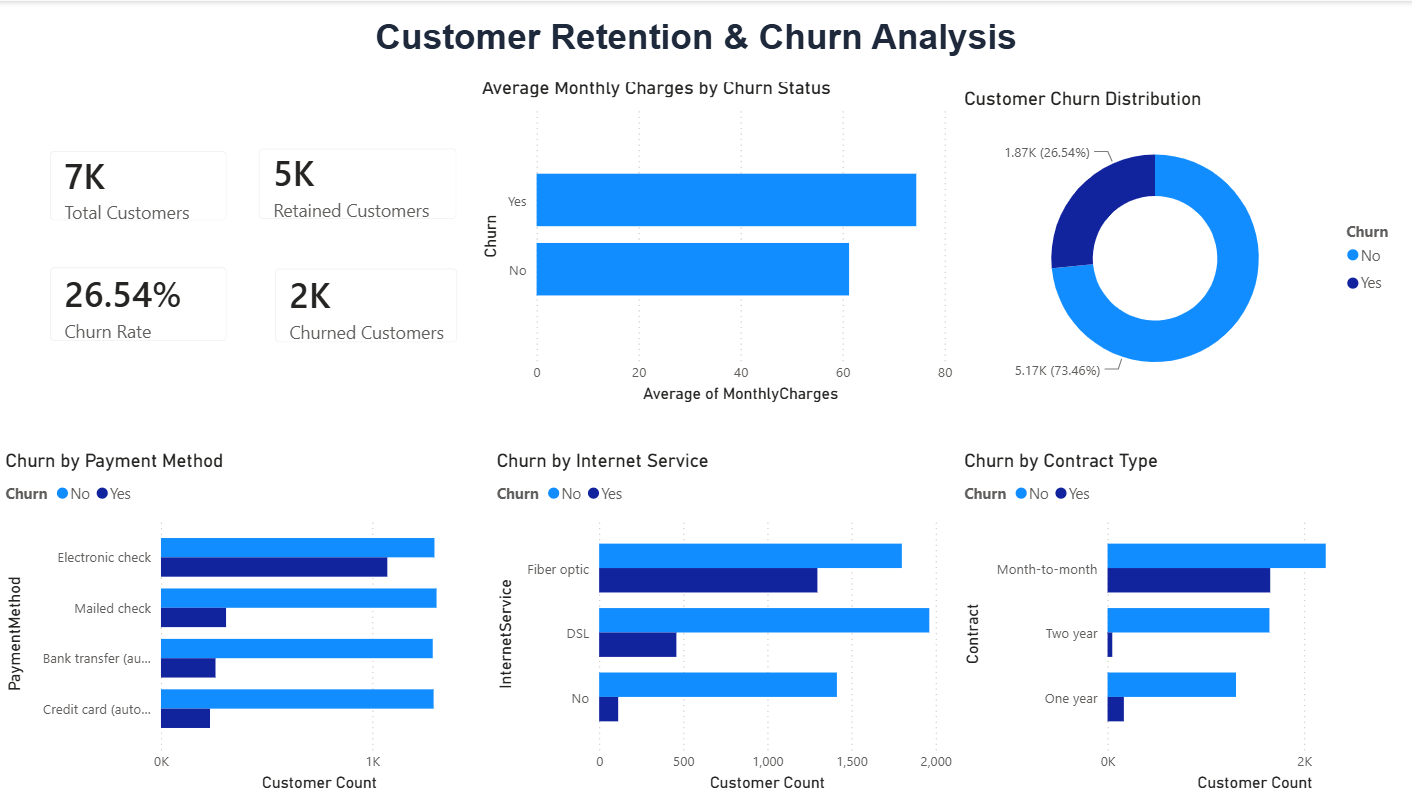

The page's visual inventory and layout, read from the dashboard file:
{"tool":"powerbi","page":{"name":"Page 1","canvas":[1280,720],"ordinal":0},"visuals":[{"type":"cardVisual","fields":{"Data":["WA_Fn-UseC_-Telco-Customer-Churn.Total Customers"]},"box":[28.3,118.2,194.1,97.7],"z":0},{"type":"cardVisual","fields":{"Data":["WA_Fn-UseC_-Telco-Customer-Churn.Retained Customers"]},"box":[217.2,116.9,213.3,99],"z":1000},{"type":"cardVisual","fields":{"Data":["WA_Fn-UseC_-Telco-Customer-Churn.Churn Rate"]},"box":[28.3,223.6,194.1,101.5],"z":2000},{"type":"cardVisual","fields":{"Data":["WA_Fn-UseC_-Telco-Customer-Churn.Churned Customers"]},"box":[231.3,224.9,199.2,101.5],"z":3000},{"type":"donutChart","title":"Customer Churn Distribution","fields":{"Category":["WA_Fn-UseC_-Telco-Customer-Churn.Churn"],"Y":["CountNonNull(WA_Fn-UseC_-Telco-Customer-Churn.customerID)"]},"box":[866.7,78.2,413.5,290.6],"z":4000},{"type":"clusteredBarChart","title":"Churn by Contract Type","fields":{"Category":["WA_Fn-UseC_-Telco-Customer-Churn.Contract"],"Y":["CountNonNull(WA_Fn-UseC_-Telco-Customer-Churn.customerID)"],"Series":["WA_Fn-UseC_-Telco-Customer-Churn.Churn"]},"box":[866.7,406.1,413.5,314.2],"z":5000},{"type":"clusteredBarChart","title":"Churn by Internet Service","fields":{"Category":["WA_Fn-UseC_-Telco-Customer-Churn.InternetService"],"Y":["CountNonNull(WA_Fn-UseC_-Telco-Customer-Churn.customerID)"],"Series":["WA_Fn-UseC_-Telco-Customer-Churn.Churn"]},"box":[444.5,406.1,422.2,314.2],"z":6000},{"type":"clusteredBarChart","title":"Average Monthly Charges by Churn Status","fields":{"Category":["WA_Fn-UseC_-Telco-Customer-Churn.Churn"],"Y":["Avg(WA_Fn-UseC_-Telco-Customer-Churn.MonthlyCharges)"]},"box":[430.9,68.3,435.9,300.5],"z":7000},{"type":"clusteredBarChart","title":"Churn by Payment Method","fields":{"Category":["WA_Fn-UseC_-Telco-Customer-Churn.PaymentMethod"],"Y":["CountNonNull(WA_Fn-UseC_-Telco-Customer-Churn.customerID)"],"Series":["WA_Fn-UseC_-Telco-Customer-Churn.Churn"]},"box":[0,406.1,444.5,314.2],"z":8000},{"type":"textbox","box":[326.6,9.9,606,63.3],"z":9000}]}

Visuals, with their boxes in screenshot pixels (x1, y1, x2, y2), scaled from the page's 1280x720 canvas onto the 1412x793 screenshot:
cardVisual - WA_Fn-UseC_-Telco-Customer-Churn.Total Customers: 31,130,245,238
cardVisual - WA_Fn-UseC_-Telco-Customer-Churn.Retained Customers: 240,129,475,238
cardVisual - WA_Fn-UseC_-Telco-Customer-Churn.Churn Rate: 31,246,245,358
cardVisual - WA_Fn-UseC_-Telco-Customer-Churn.Churned Customers: 255,248,475,359
"Customer Churn Distribution" donutChart: 956,86,1411,406
"Churn by Contract Type" clusteredBarChart: 956,447,1411,792
"Churn by Internet Service" clusteredBarChart: 490,447,956,792
"Average Monthly Charges by Churn Status" clusteredBarChart: 475,75,956,406
"Churn by Payment Method" clusteredBarChart: 0,447,490,792
textbox: 360,11,1029,81
